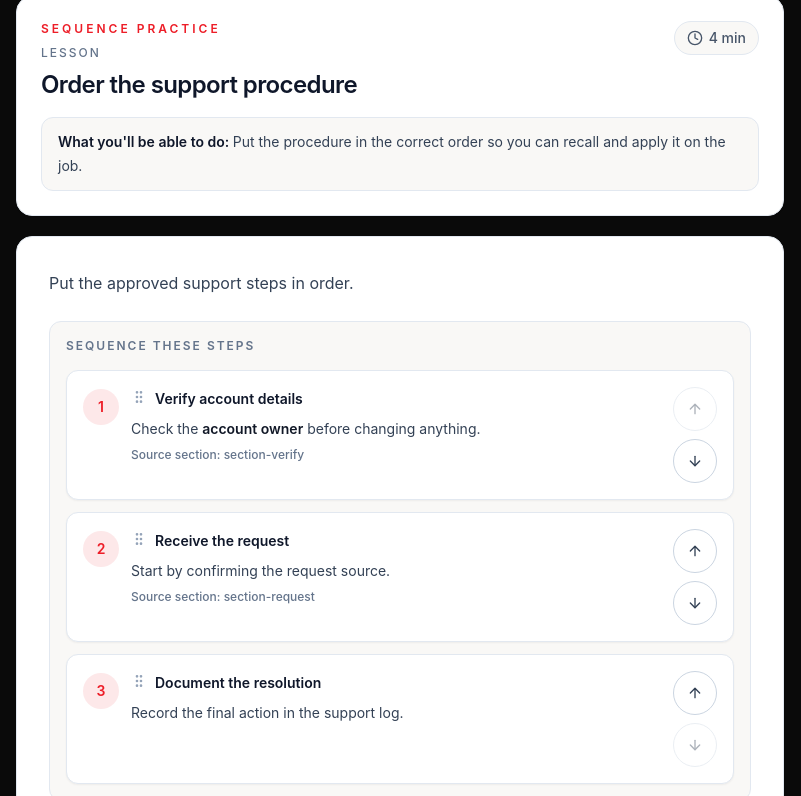
it: LessonContentRenderer ordering lessons › supports keyboard/touch reordering and completes once with payload
The image size is (801, 796).
Click the button named "Move \"Receive the request\" up" at coordinates (695, 551), box [673, 529, 717, 573]
(page scrolled)
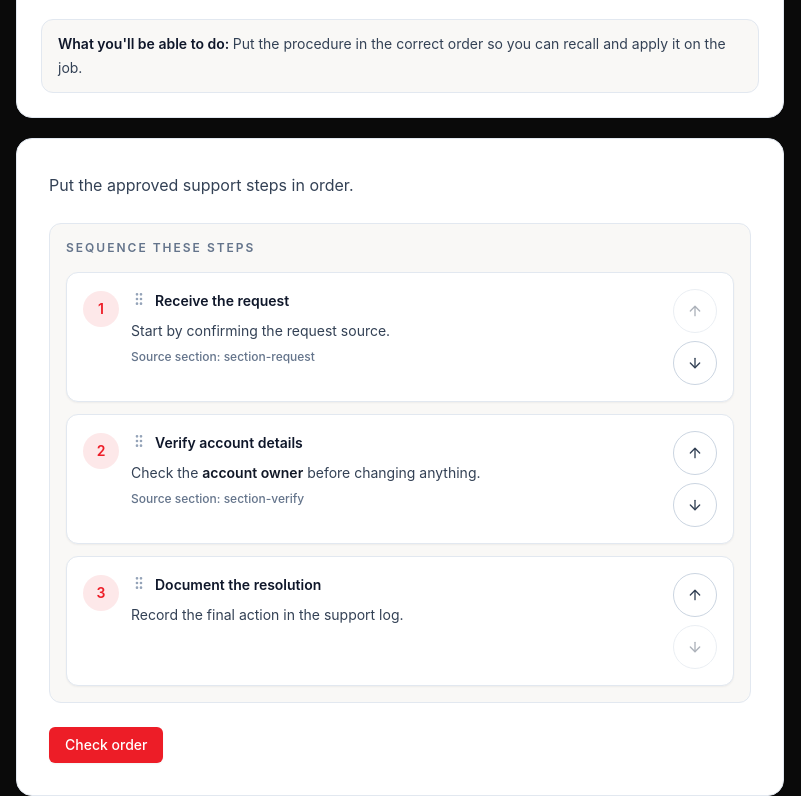
Click the button "Check order" at coordinates (106, 745), box [49, 727, 164, 763]
(page scrolled)
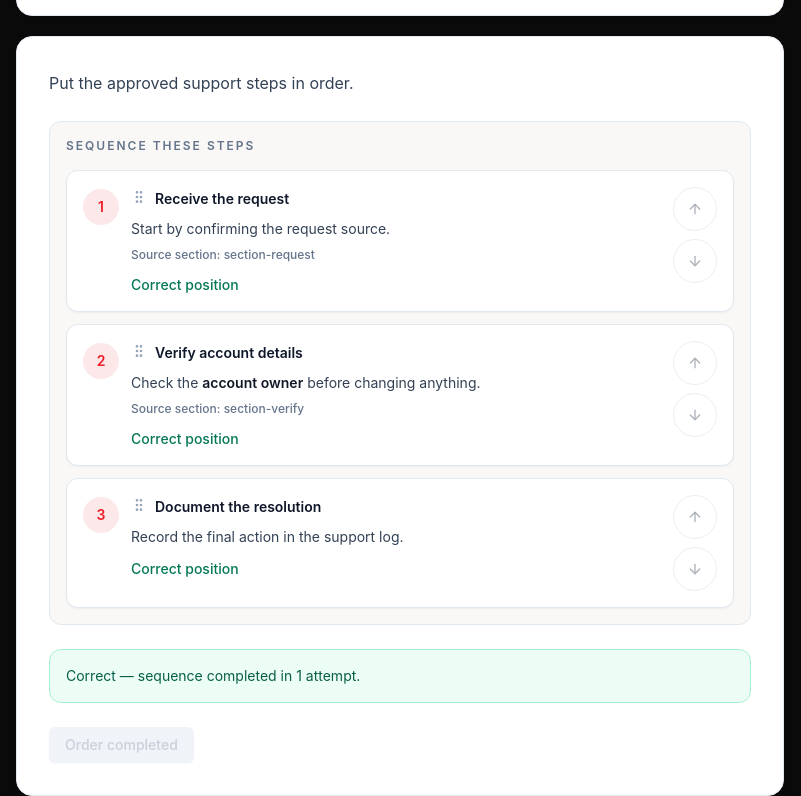
Now the message shows "Correct — sequence completed", box [66, 667, 360, 684]
Now the button "Order completed" is disabled, box [49, 727, 194, 763]
